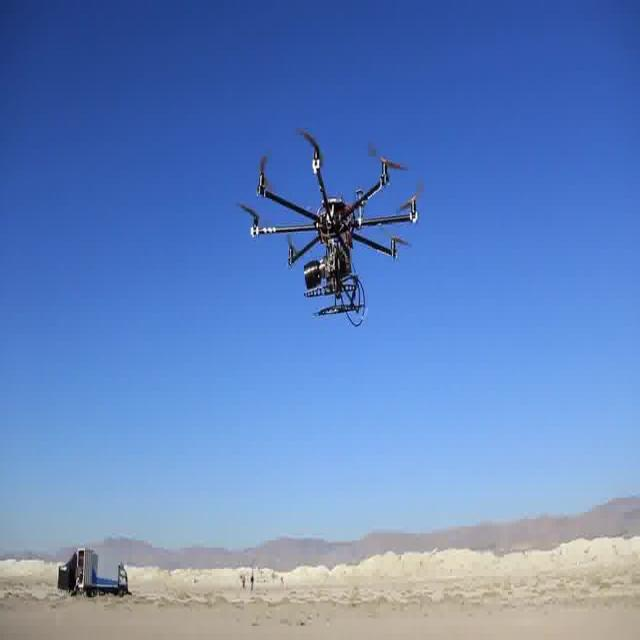drone: (234, 120, 426, 329)
